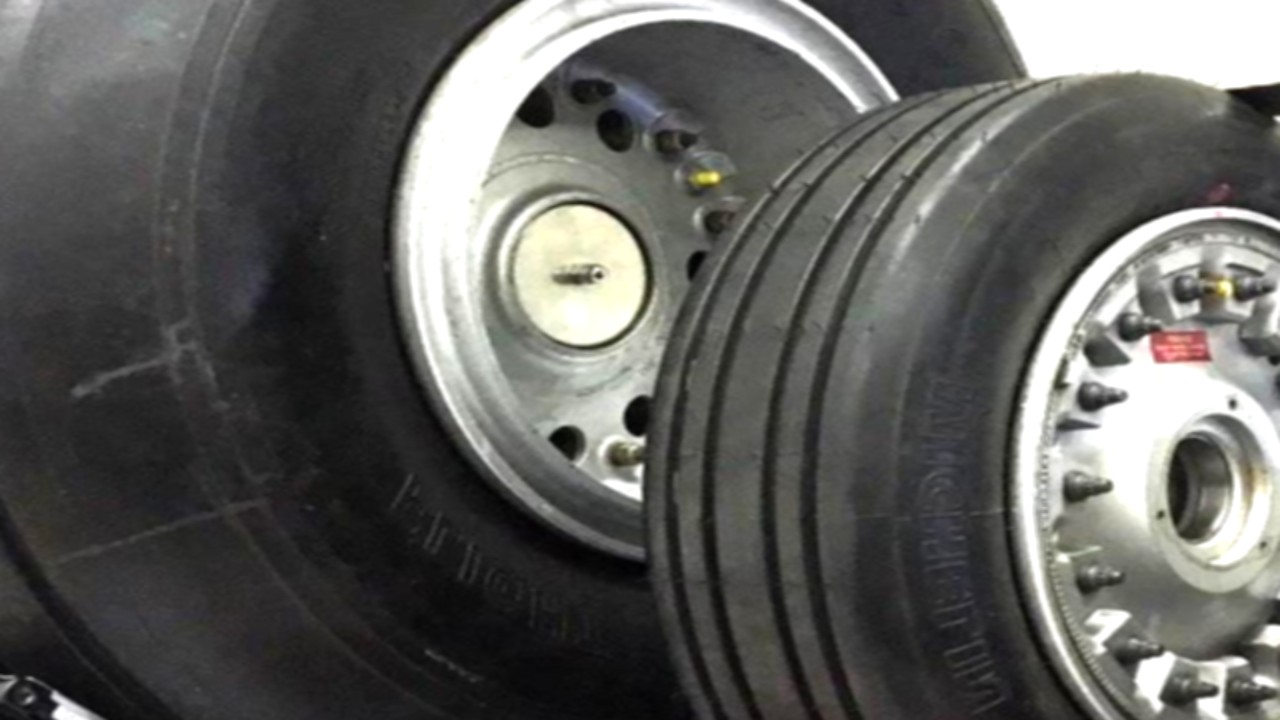wheel: (0, 0, 1125, 720), (624, 58, 1280, 720)
